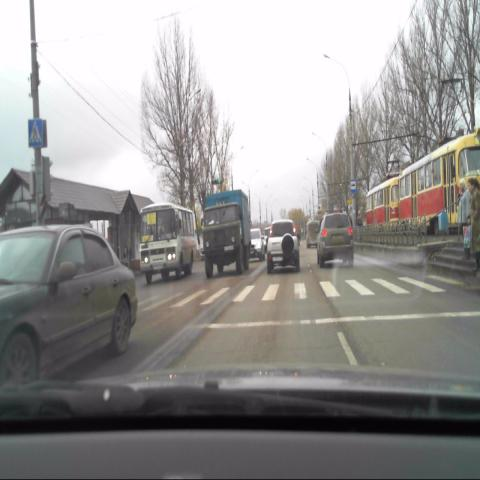5_16: (350, 180, 357, 195)
5_19_1: (26, 117, 43, 146)
